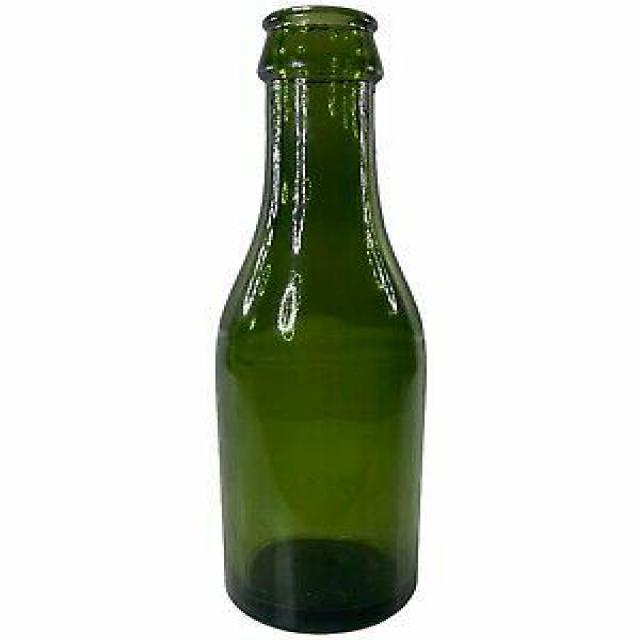non-organic waste: (210, 3, 424, 640)
